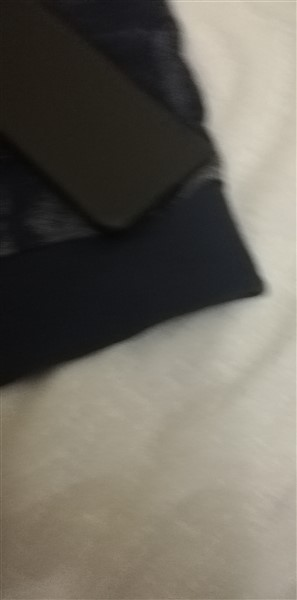telefon: (1, 1, 219, 244)
